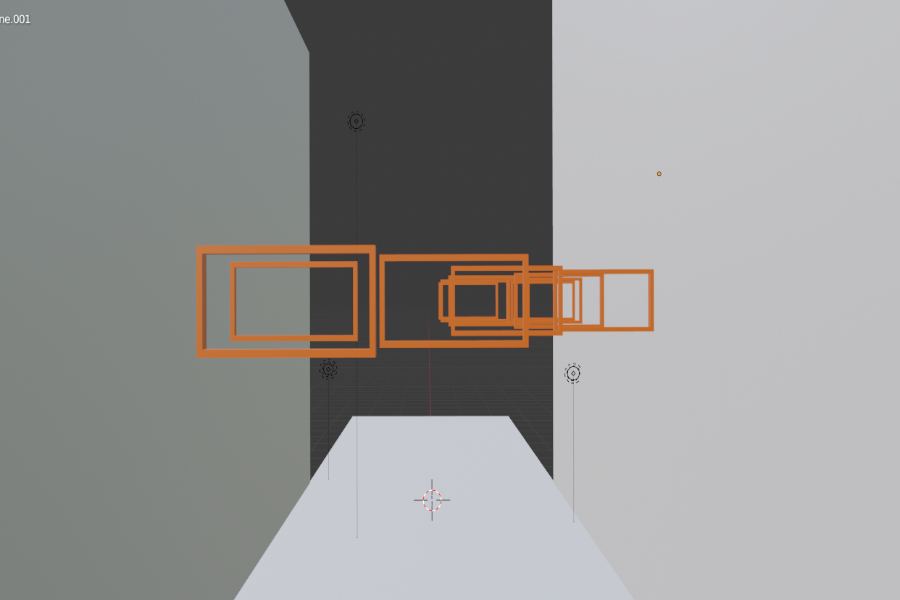GATE: (193, 243, 381, 361), (376, 249, 531, 346), (228, 261, 357, 343)
